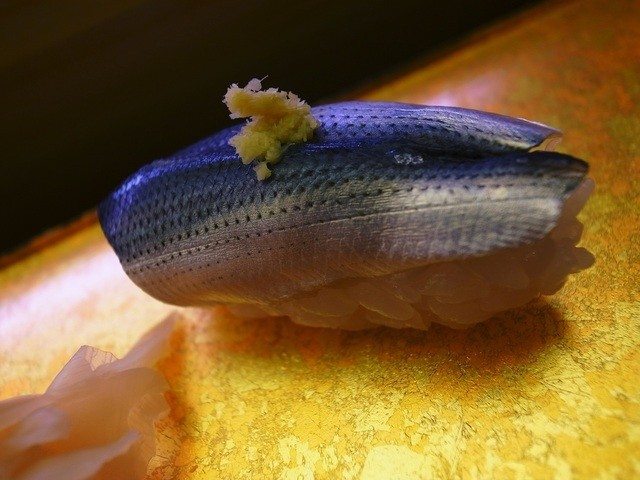spotted-shad: (95, 73, 603, 329)
